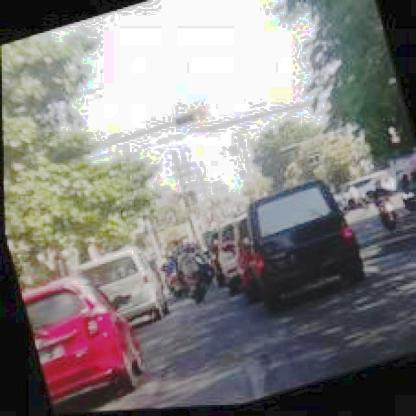Traffic Light -Red-: (173, 113, 201, 129)
